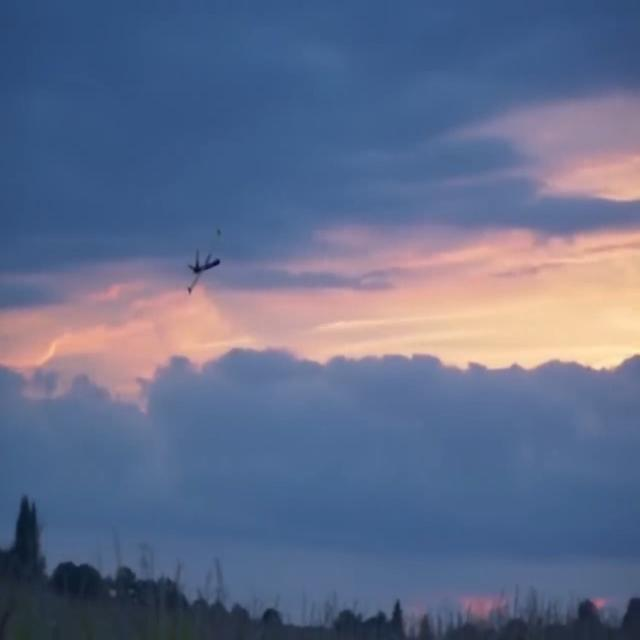iha: (185, 259, 224, 265)
